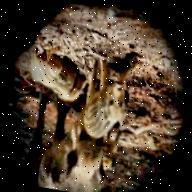boar: (33, 100, 112, 192), (79, 48, 139, 145), (25, 49, 90, 106)
